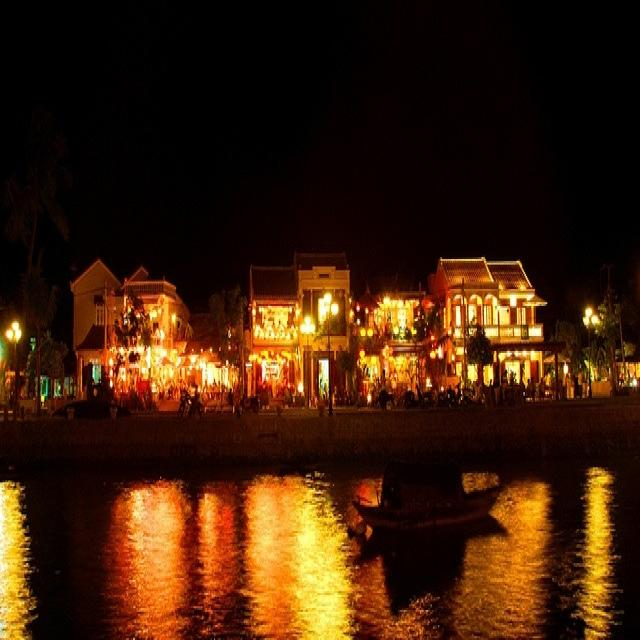Boat: (342, 437, 516, 578)
